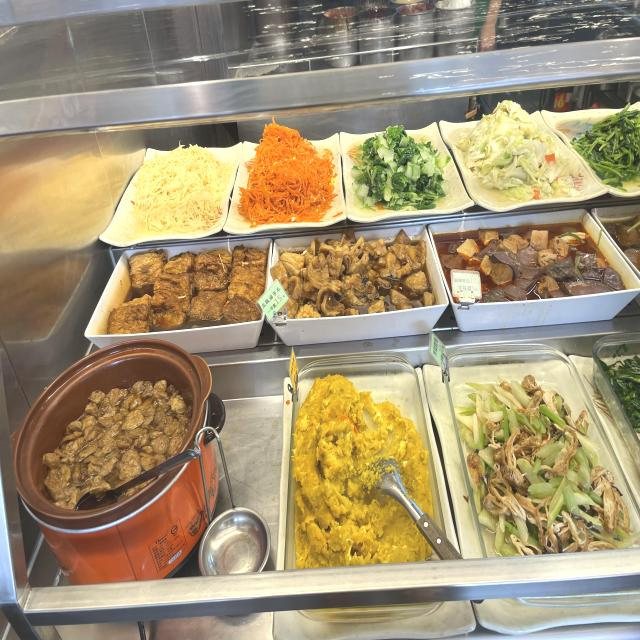Scrambled eggs with carrots: (263, 152, 330, 208)
cabbage: (479, 132, 547, 193)
